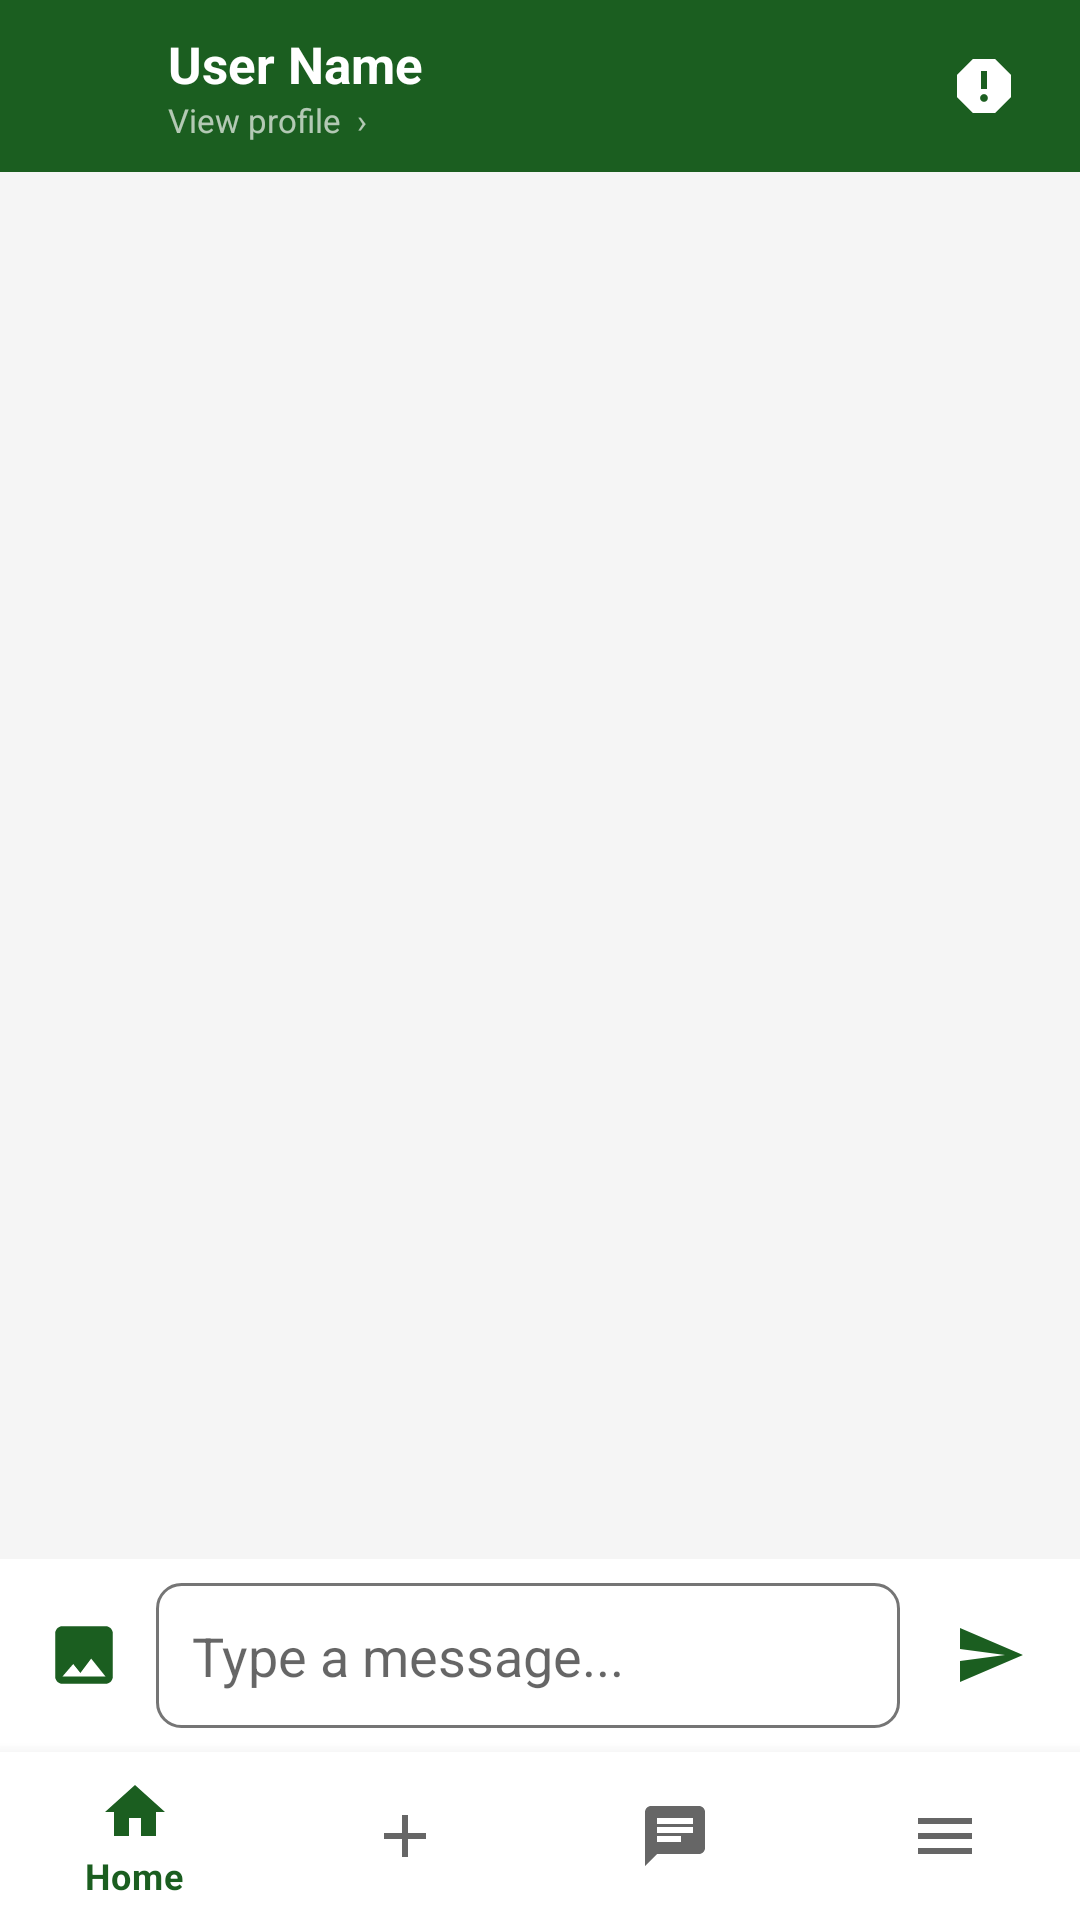

Icons on this 1080w x 1920h Android screen, each with its box as (x1,y1,x2,y2):
Send message: (960,1628,1023,1682)
